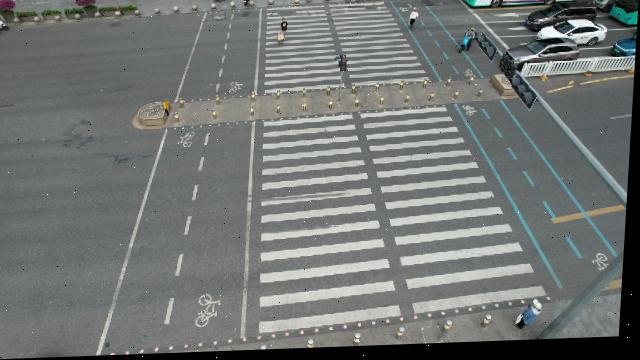non-motor-vehicle: (519, 305, 546, 333), (460, 38, 475, 57), (240, 0, 255, 8), (214, 0, 233, 4)
person: (277, 19, 289, 46), (409, 11, 419, 33)
